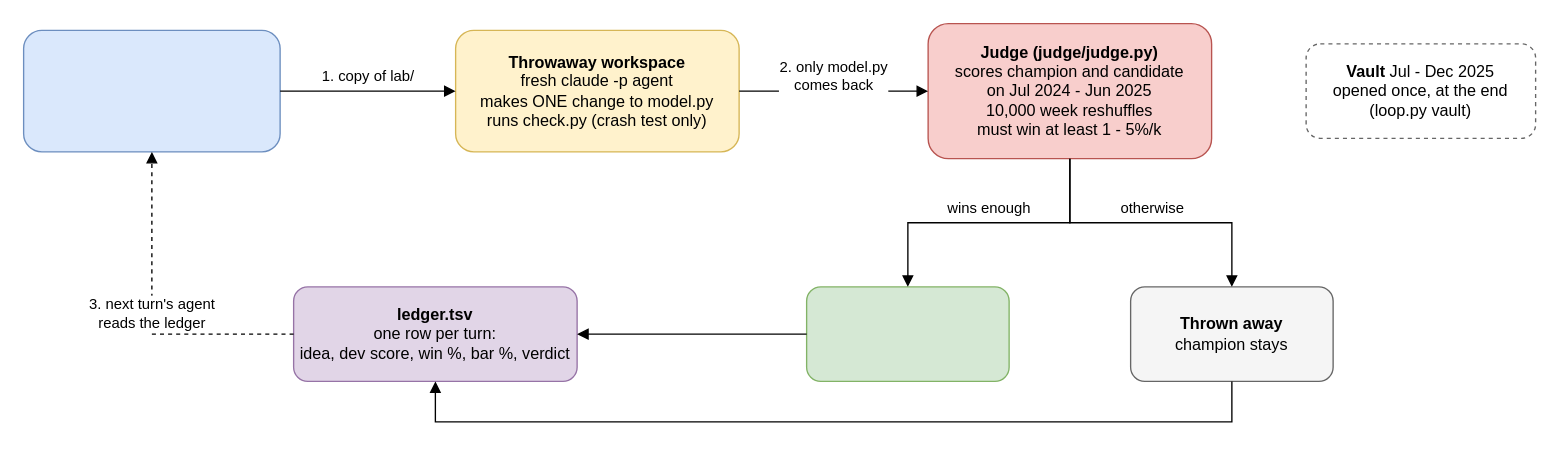
Some shapes in this 1559 by 456 pixel diagram are drawn without their labels. The shapes that lost their labels are listed below. From the top down, each one's box as (x1, y1, x2, y2) in pixels, then its label:
(22, 29, 280, 152): lab/ champion model.py data.csv (to Jun 2024) ledger.tsv, program.md
(805, 286, 1009, 381): KEPT candidate becomes new lab/model.py
